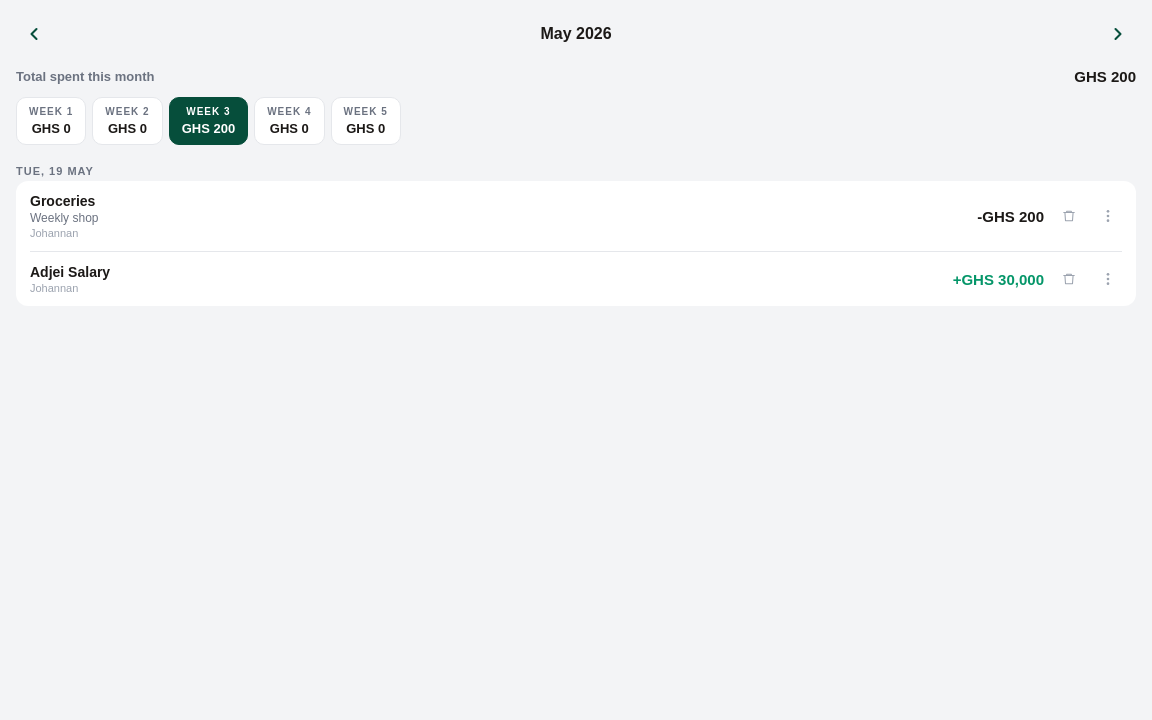
Scenario: DailyView — move to period › kebab → "Move to period" opens the move sheet
Click the button with test id "tx-menu-tx-1" at [1108, 216], box x1=1094 y1=202 x2=1122 y2=230
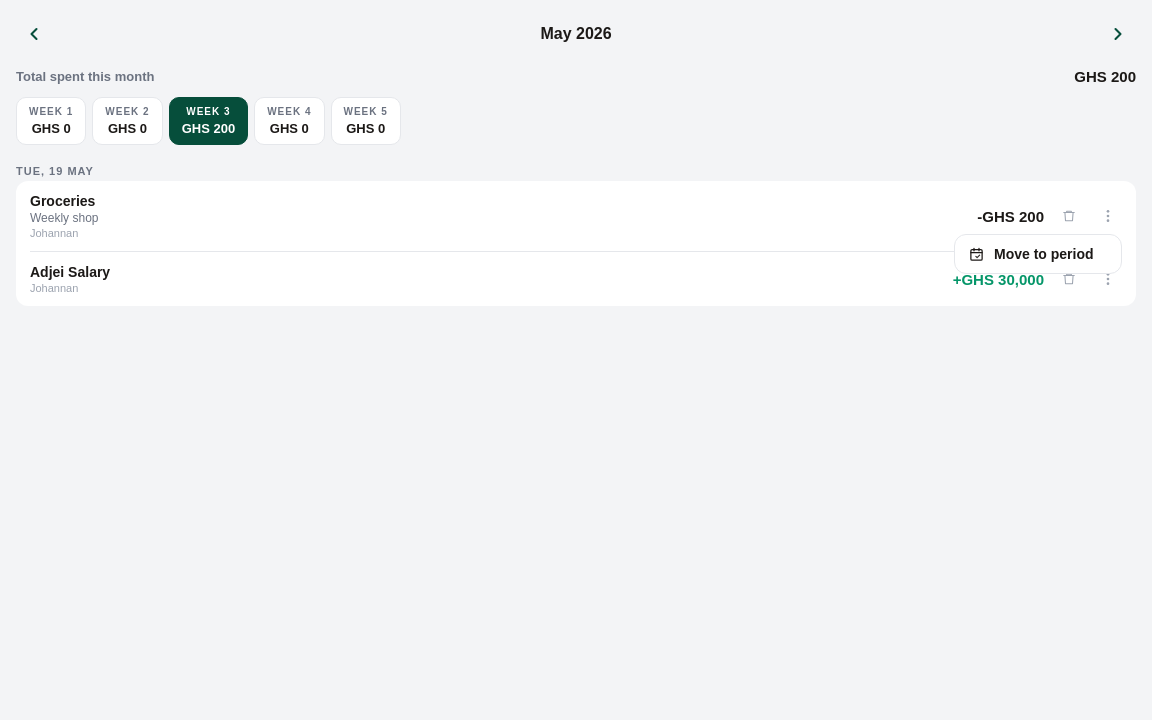
Click the menu item with test id "tx-move-tx-1" at [1038, 254], box x1=955 y1=235 x2=1121 y2=273
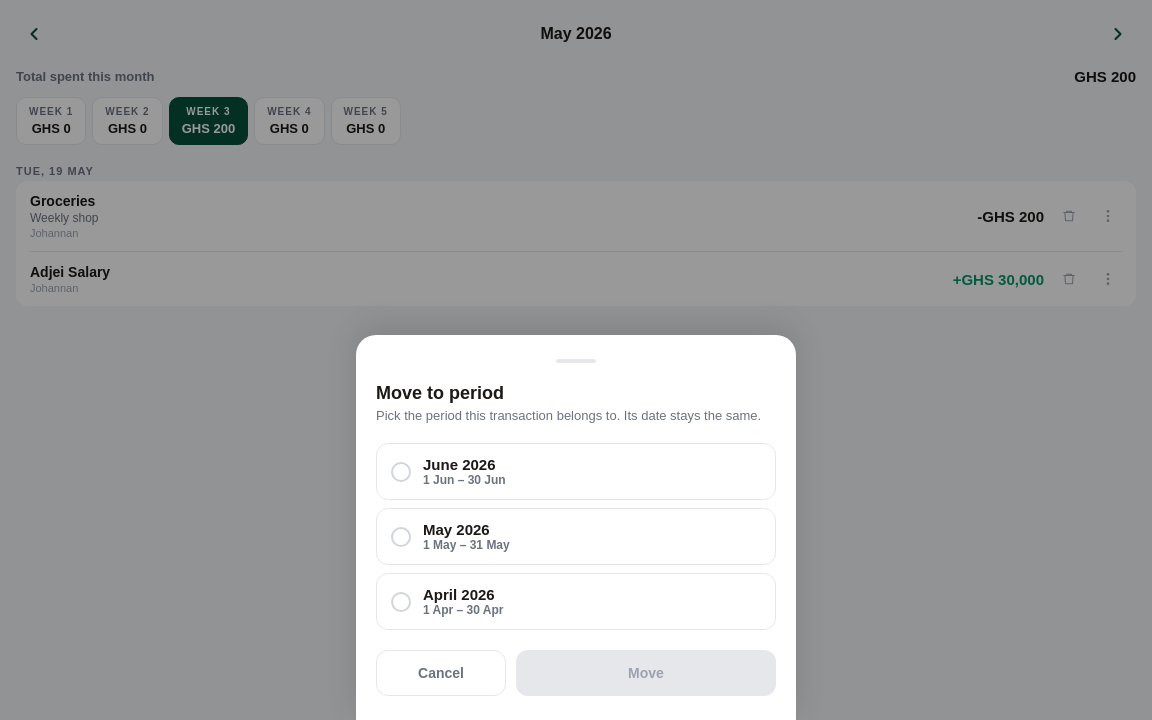
expect the dialog with test id "move-cycle-sheet" is shown: met, box x1=356 y1=335 x2=796 y2=719
expect the button with test id "move-cycle-option-cyc-apr" is shown: met, box x1=376 y1=573 x2=776 y2=630
